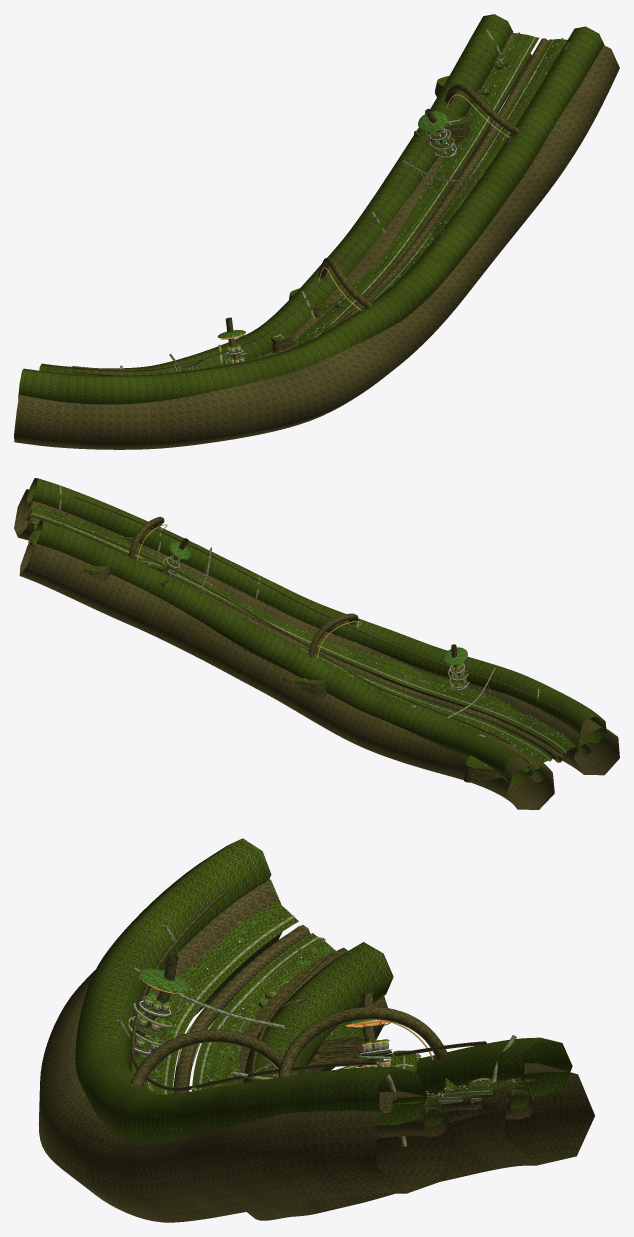
Rendered from ravine.glb.
3 renders of one model, top to bottom at view 1: azimuth 30°, elevation 25°; view 2: azimuth 150°, elevation 25°; view 3: azimuth 270°, elevation 25°, orthographic. The views are drawn at different scales.
Bounding box in the file's own units: 1602 × 624 × 689.
Materials: 8 (8 with a texture image).
